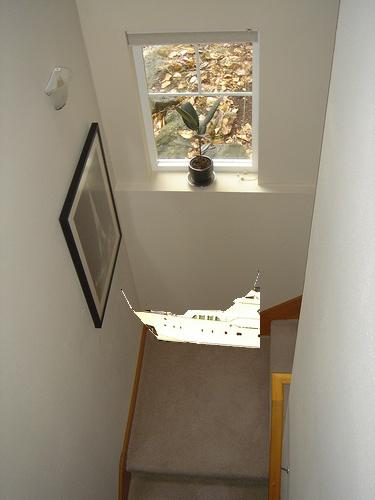tampered: (122, 271, 260, 348)
